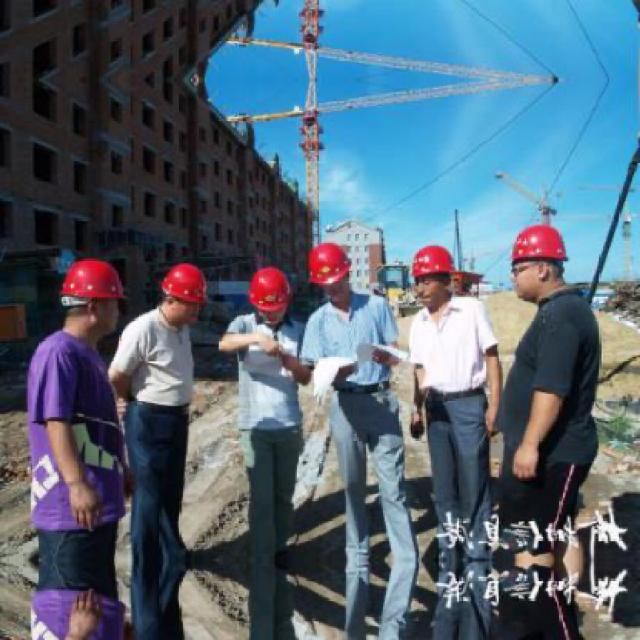helmet: (55, 254, 131, 341), (506, 216, 574, 304), (408, 238, 463, 312), (156, 260, 212, 326), (303, 239, 355, 303), (246, 263, 291, 322)
